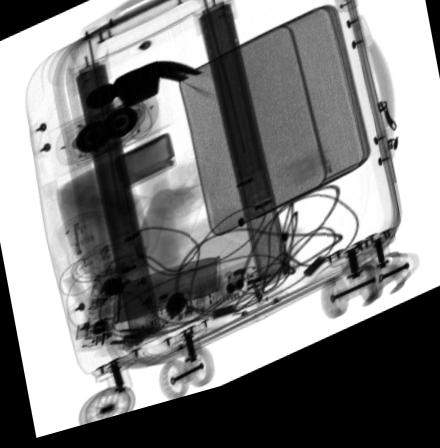Hammer: (85, 68, 204, 353)
